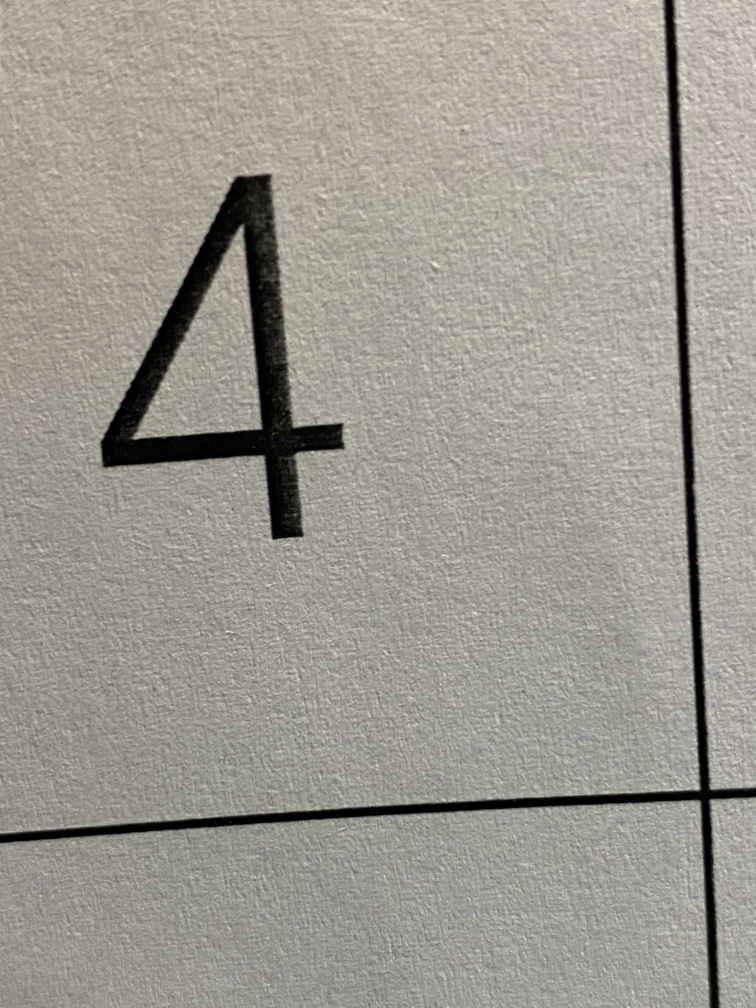four: (60, 126, 411, 612)
